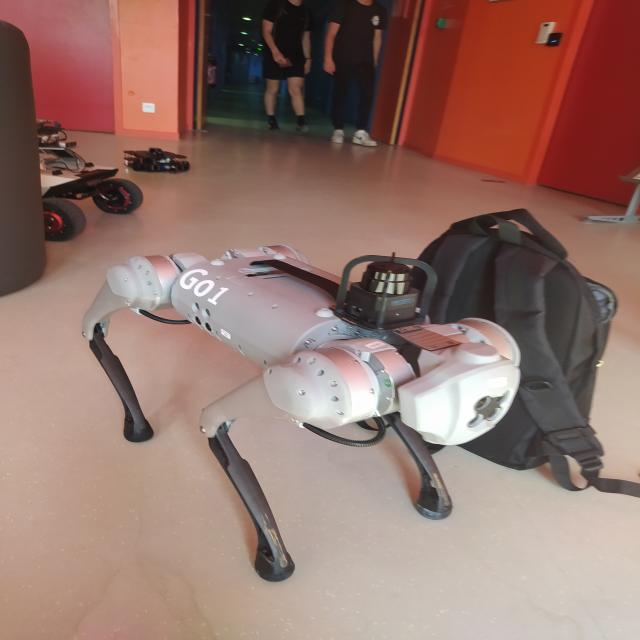unitree-go1-robot: (69, 243, 538, 600)
